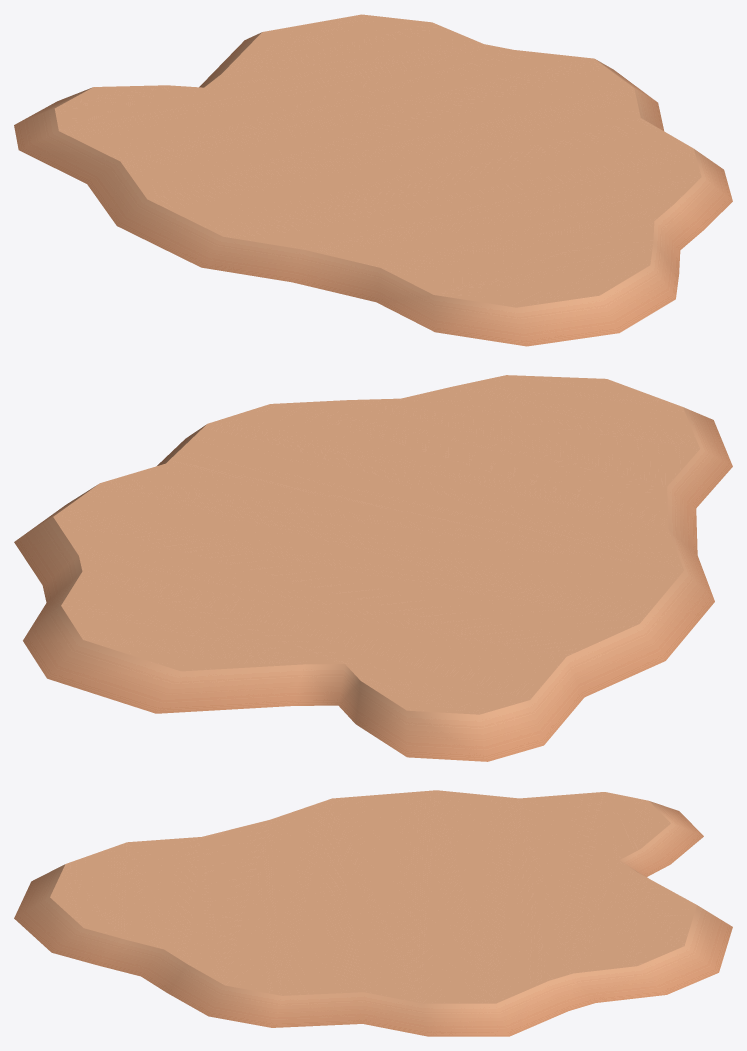
The model's file is patch-sand.002_lev2.glb.
The picture shows the model from 3 angles, top to bottom: view 1: azimuth 30°, elevation 25°; view 2: azimuth 150°, elevation 25°; view 3: azimuth 270°, elevation 25°; orthographic projection. The views are drawn at different scales.
Parts seen in each view (by area): view 1: patch-sand.002_lev2; view 2: patch-sand.002_lev2; view 3: patch-sand.002_lev2.
Part boxes in pixels (x1,y1,x2,y2): patch-sand.002_lev2: (14,14,732,346); patch-sand.002_lev2: (14,375,732,761); patch-sand.002_lev2: (14,790,732,1036).
Bounding box in the file's own units: 6.04 × 0.25 × 7.73.
Materials: 1 (1 with a texture image).
